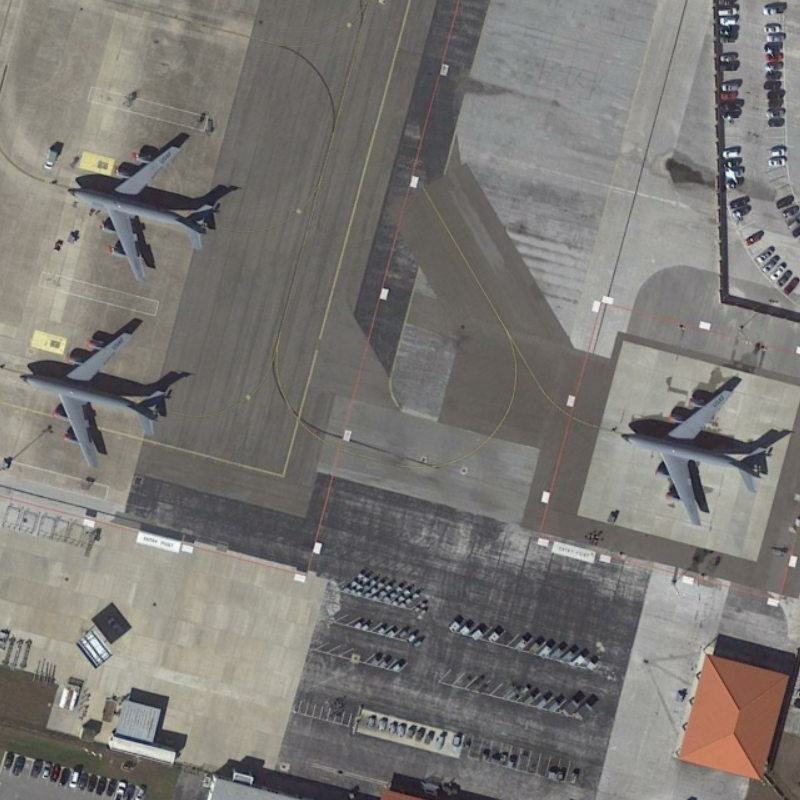A14: (61, 142, 216, 286), (14, 330, 170, 472), (618, 385, 771, 529)
